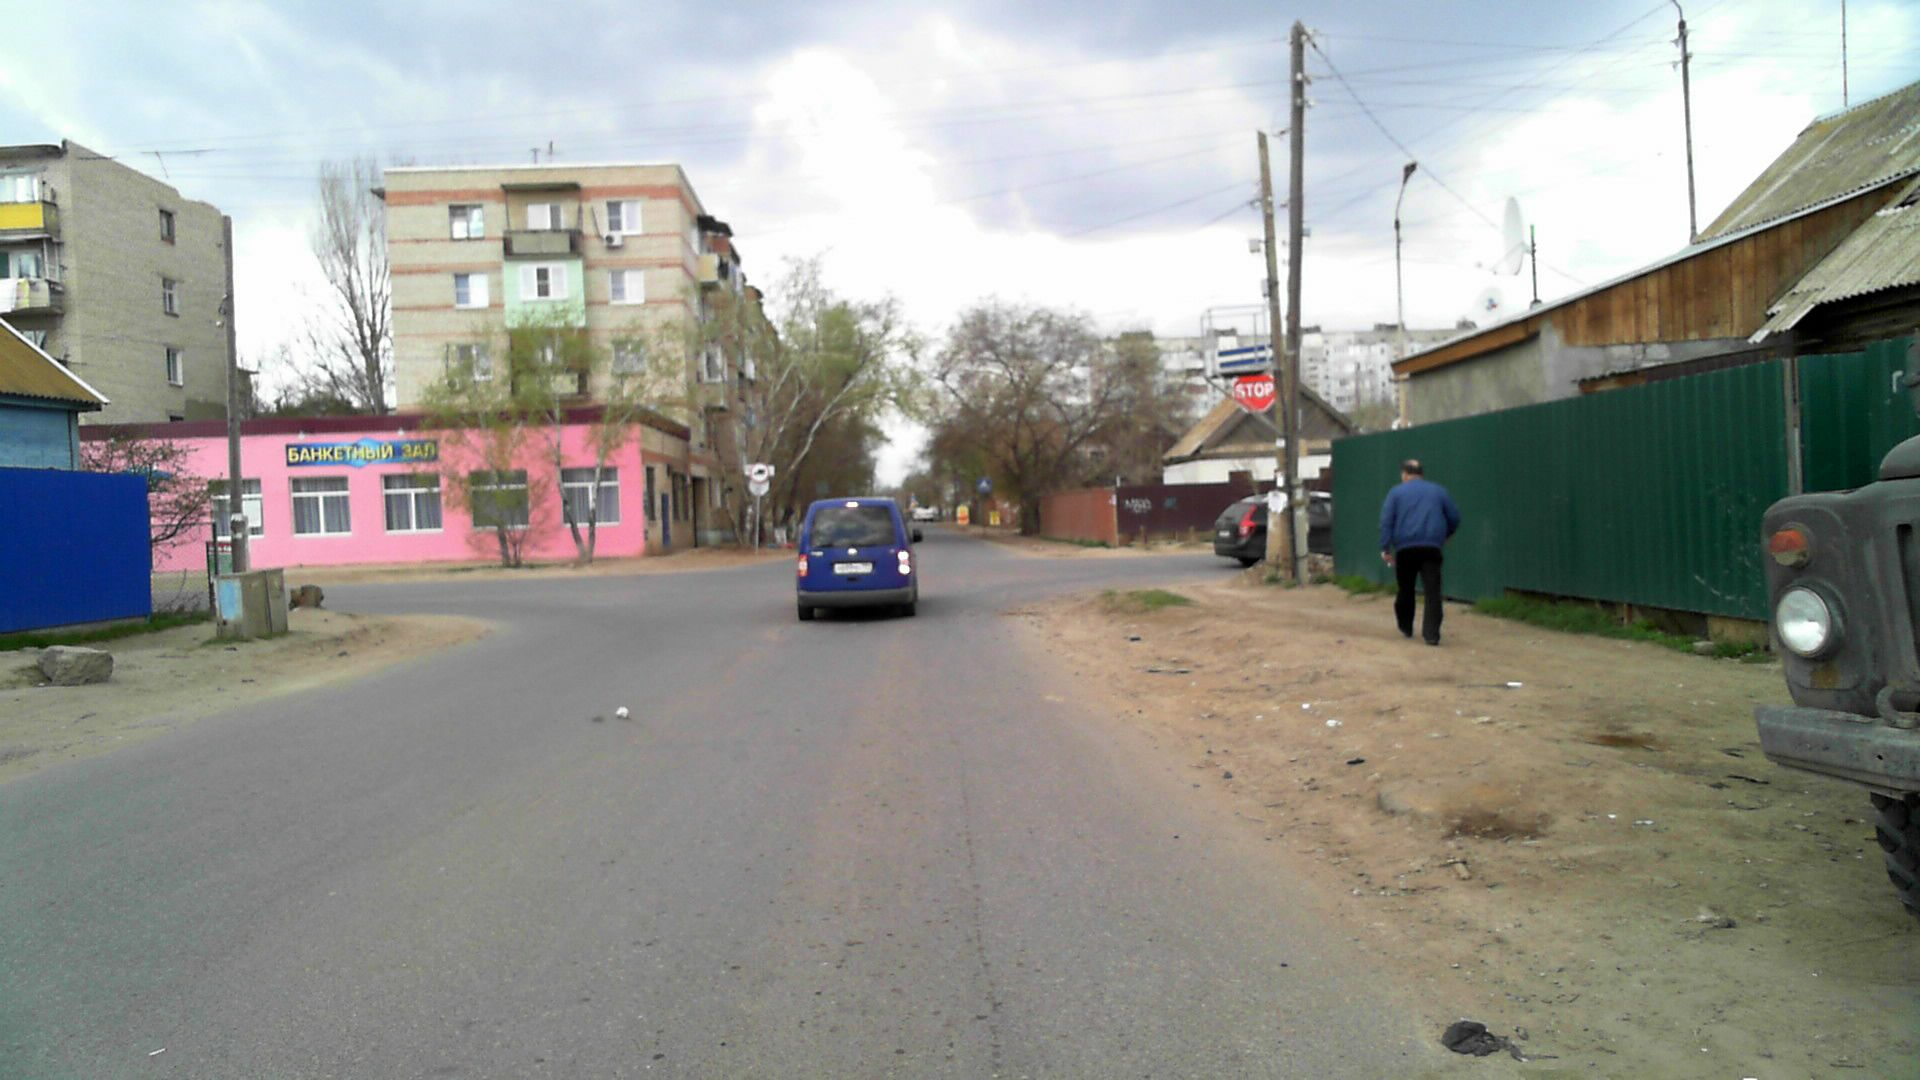One-Way Traffic: (1216, 345, 1273, 368)
